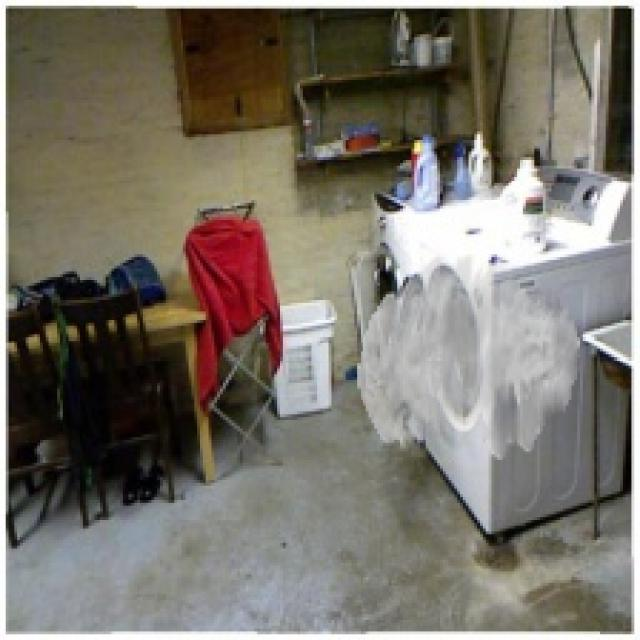smoke: (357, 254, 580, 460)
